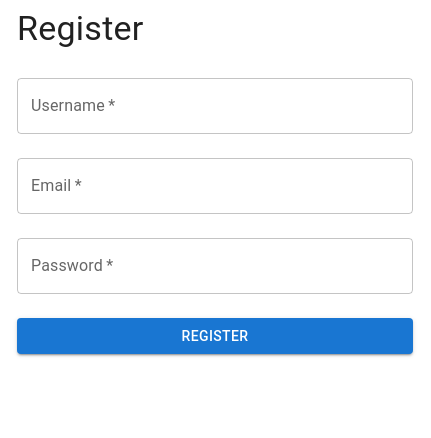
Test case: Register Page › shows error on registration failure
Step 1. Type "testuser" into the field labelled "Username *" → (215, 106), box left=17, top=78, right=413, bottom=134
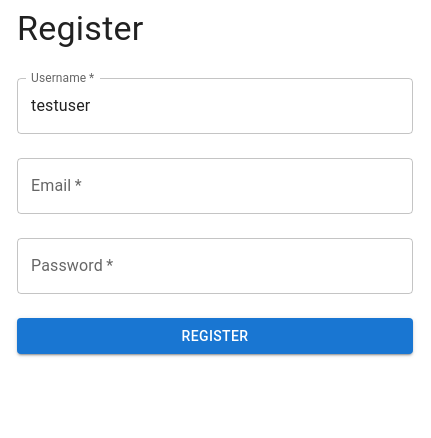
Step 2. Type "test@example.com" into the field labelled "Email *" → (215, 186), box left=17, top=158, right=413, bottom=214
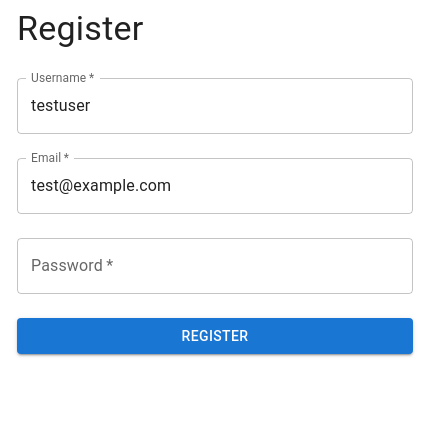
Step 3. Type "password123" into the password field labelled "Password *" → (215, 266), box left=17, top=238, right=413, bottom=294
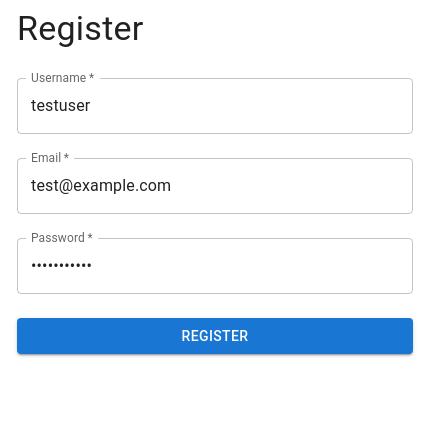
Step 4. Click the button "Register" → (215, 336), box left=17, top=318, right=413, bottom=354
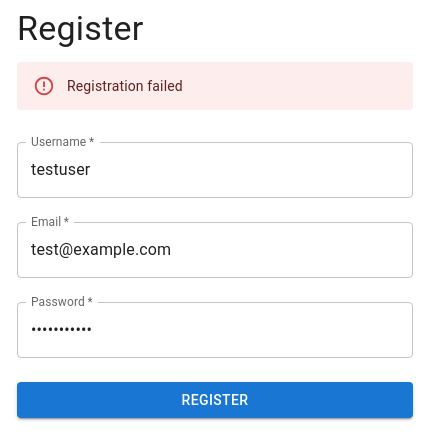
Expected: the text "Registration failed" is shown, left=67, top=78, right=183, bottom=94
